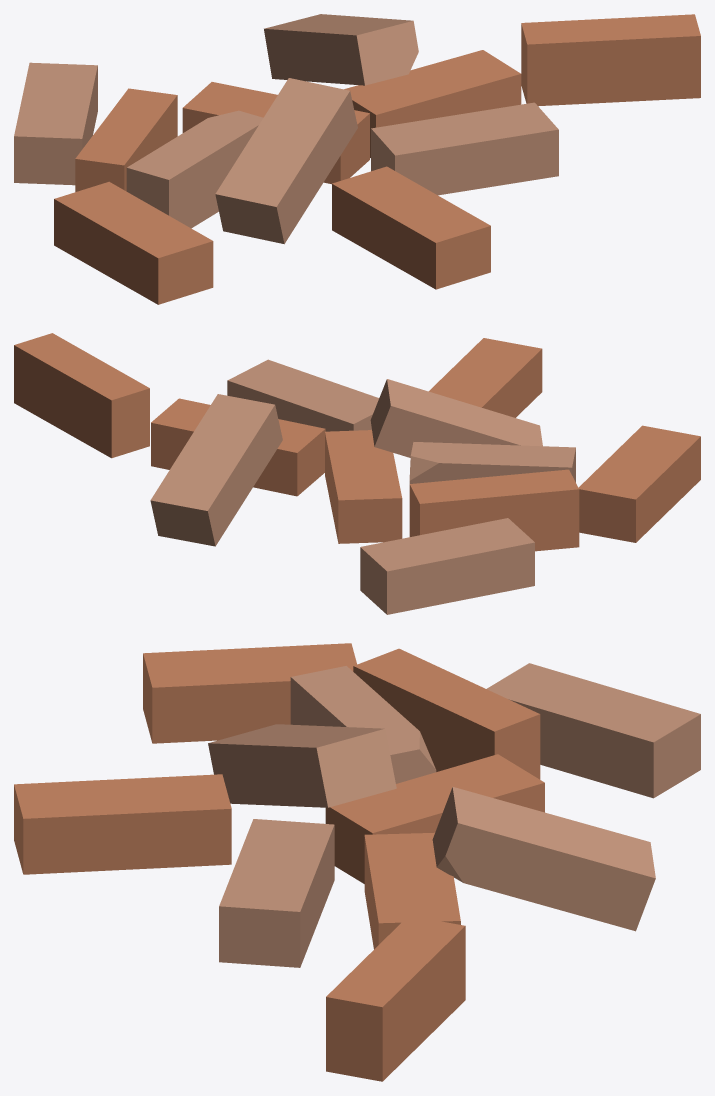
The model's file is Brick_Pile_m_09 2.fbx.
3 views of the same model, one above another, from view 1: azimuth 30°, elevation 25°; view 2: azimuth 150°, elevation 25°; view 3: azimuth 270°, elevation 25° (orthographic). The views are drawn at different scales.
Parts seen in each view (by area): view 1: Brick_Pile_m_09; view 2: Brick_Pile_m_09; view 3: Brick_Pile_m_09.
Boxes of the visible parts, left/top/right/bottom form: Brick_Pile_m_09: left=14, top=14, right=700, bottom=304; Brick_Pile_m_09: left=14, top=333, right=700, bottom=614; Brick_Pile_m_09: left=14, top=643, right=700, bottom=1081.
Bounding box in the file's own units: 110 × 15.81 × 83.5.
